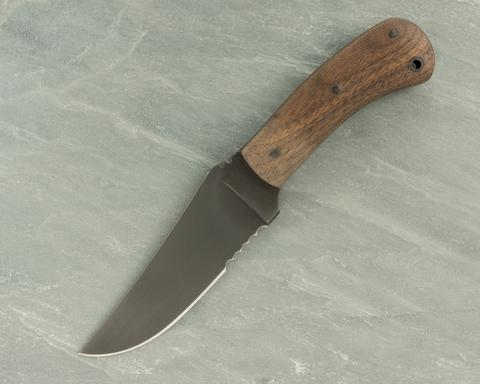knief: (89, 45, 388, 368)
